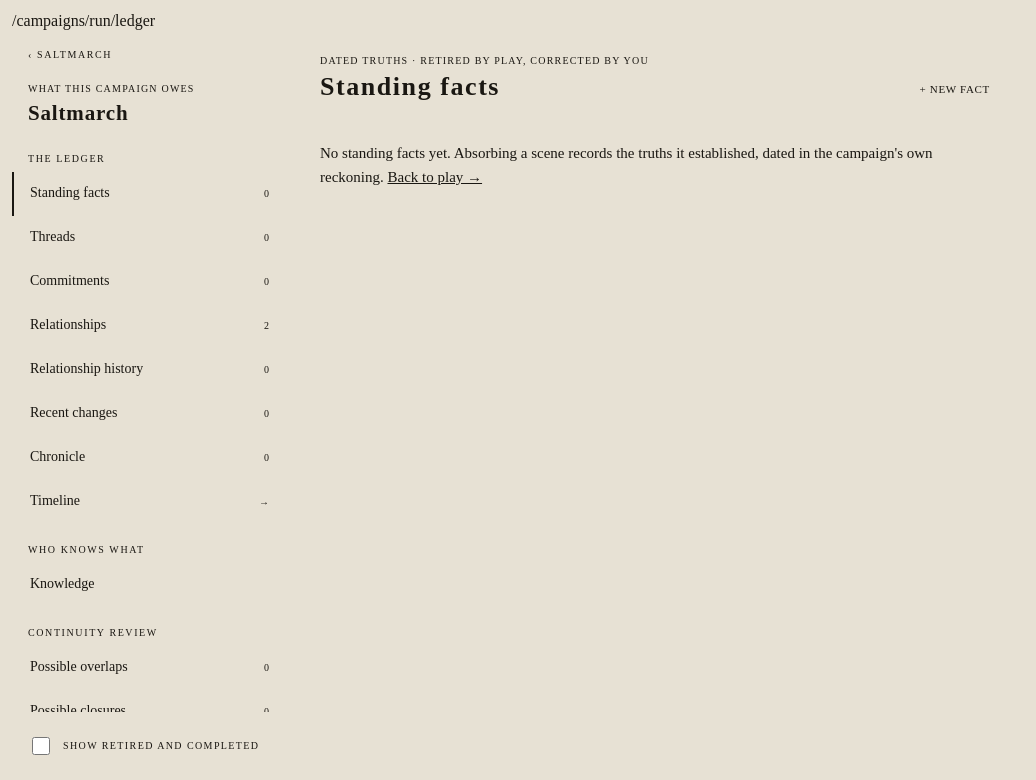
Scenario: relationships show both shapes: a directed meter and a dated bond
Click the button "Relationships 2". click: (68, 325)
box: [12,304,286,348]
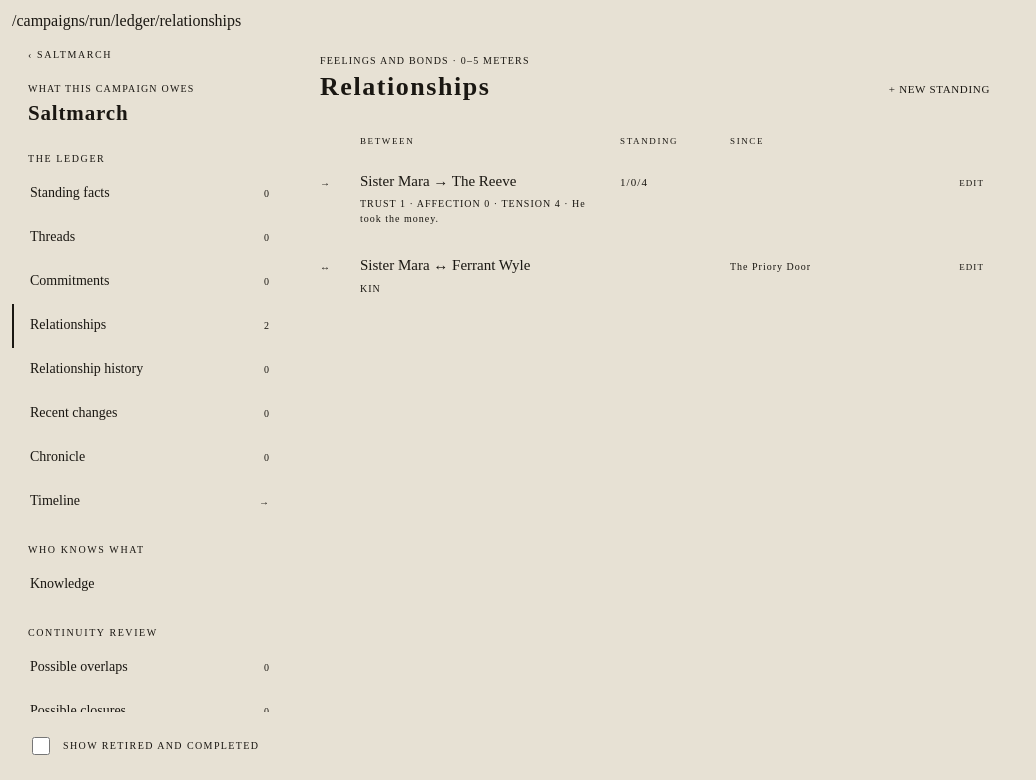
Expected: the row that starts with "Sister Mara → The Reeve" shows "TRUST 1 · AFFECTION 0 · TENSION 4 · He took the money.", [360,198,586,224]
Expected: the row "↔ Sister Mara ↔ Ferrant Wyle KIN The Priory Door Edit" is shown, [320,240,1002,310]
Expected: the cell "The Priory Door" is shown, [730,240,886,310]
